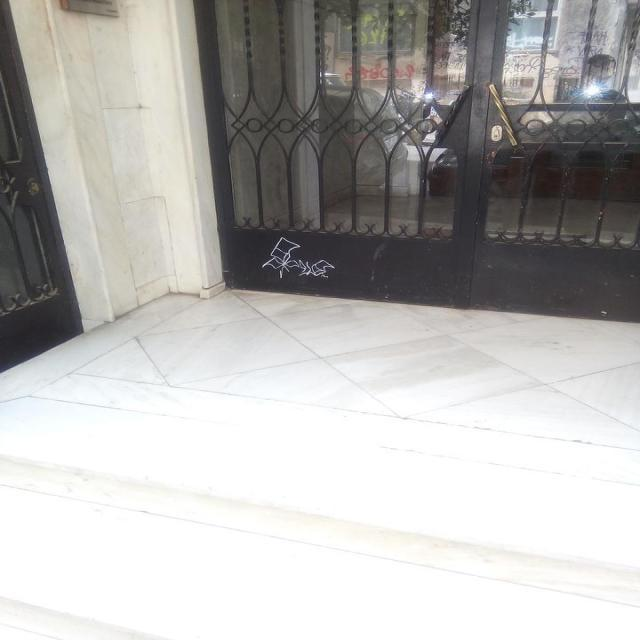nonspitting: (260, 237, 334, 279)
